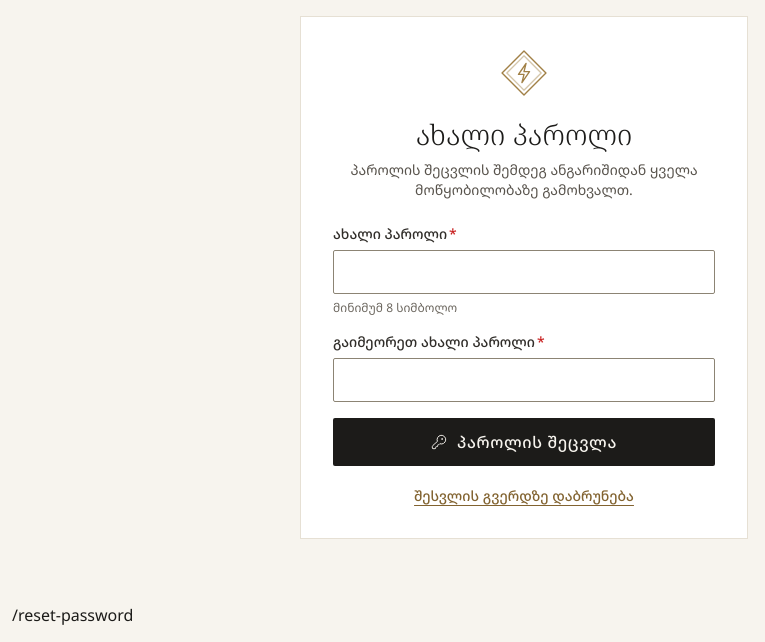
Test: the reset page › marks the password field when the server finds it too common
Type "sakartvelo" into the password field labelled "ახალი პაროლი*". click: (524, 272)
box: [333, 250, 715, 294]
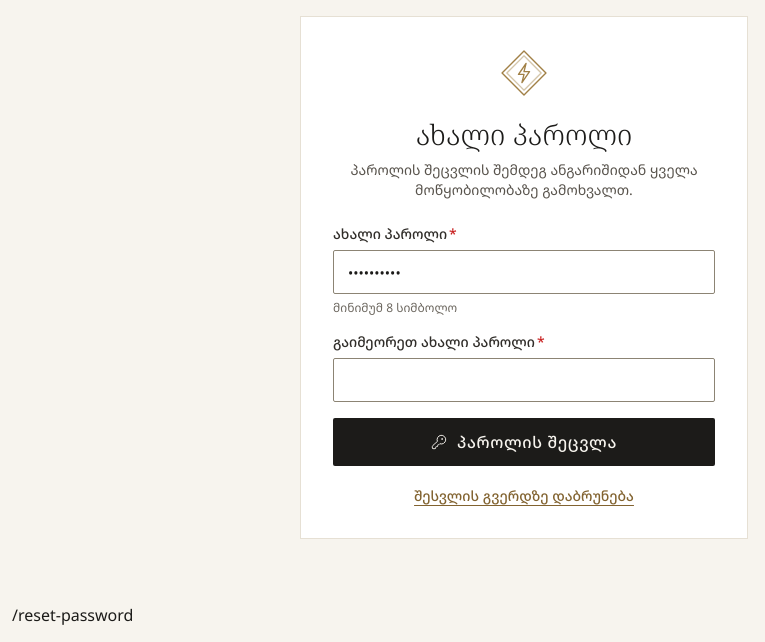
Type "sakartvelo" into the password field labelled "გაიმეორეთ ახალი პაროლი*". click: (524, 380)
box: [333, 358, 715, 402]
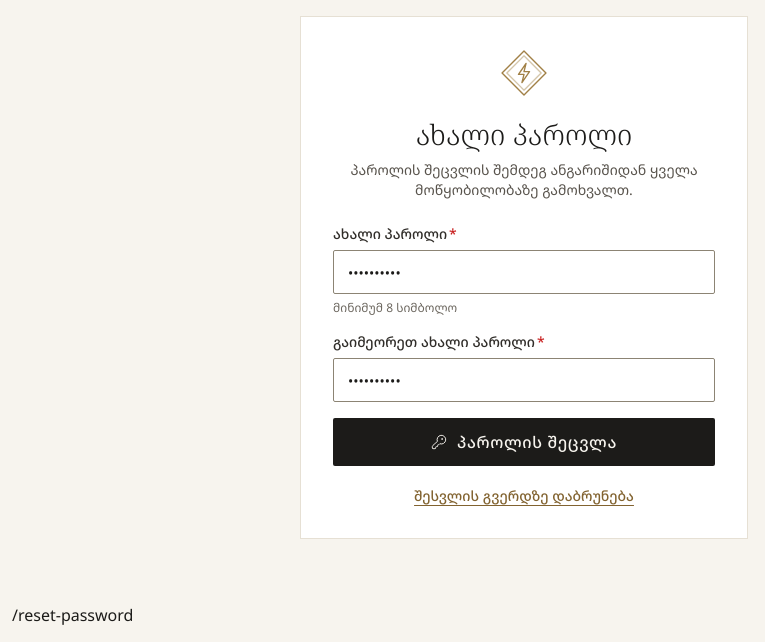
Click the button "პაროლის შეცვლა". click: (524, 442)
box: [333, 418, 715, 466]
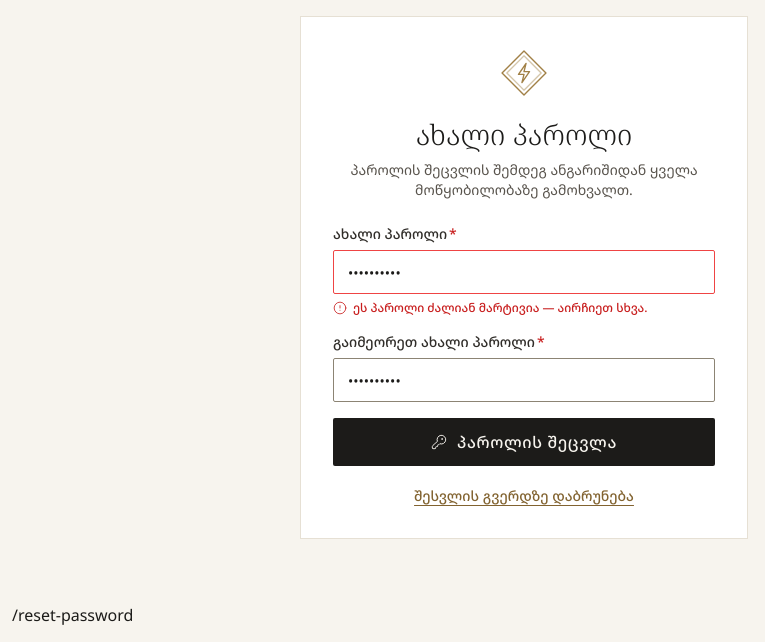
Expected: the text "ეს პაროლი ძალიან მარტივია — აირჩიეთ სხვა." is shown, [333, 299, 648, 316]
